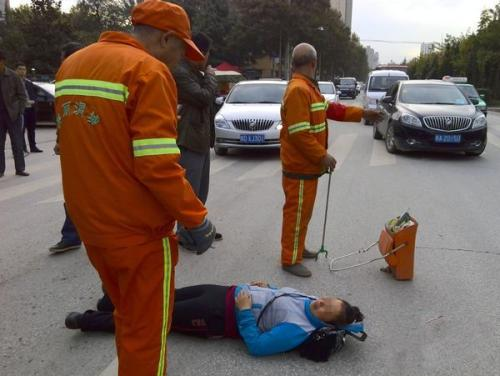fall: (57, 270, 376, 369)
